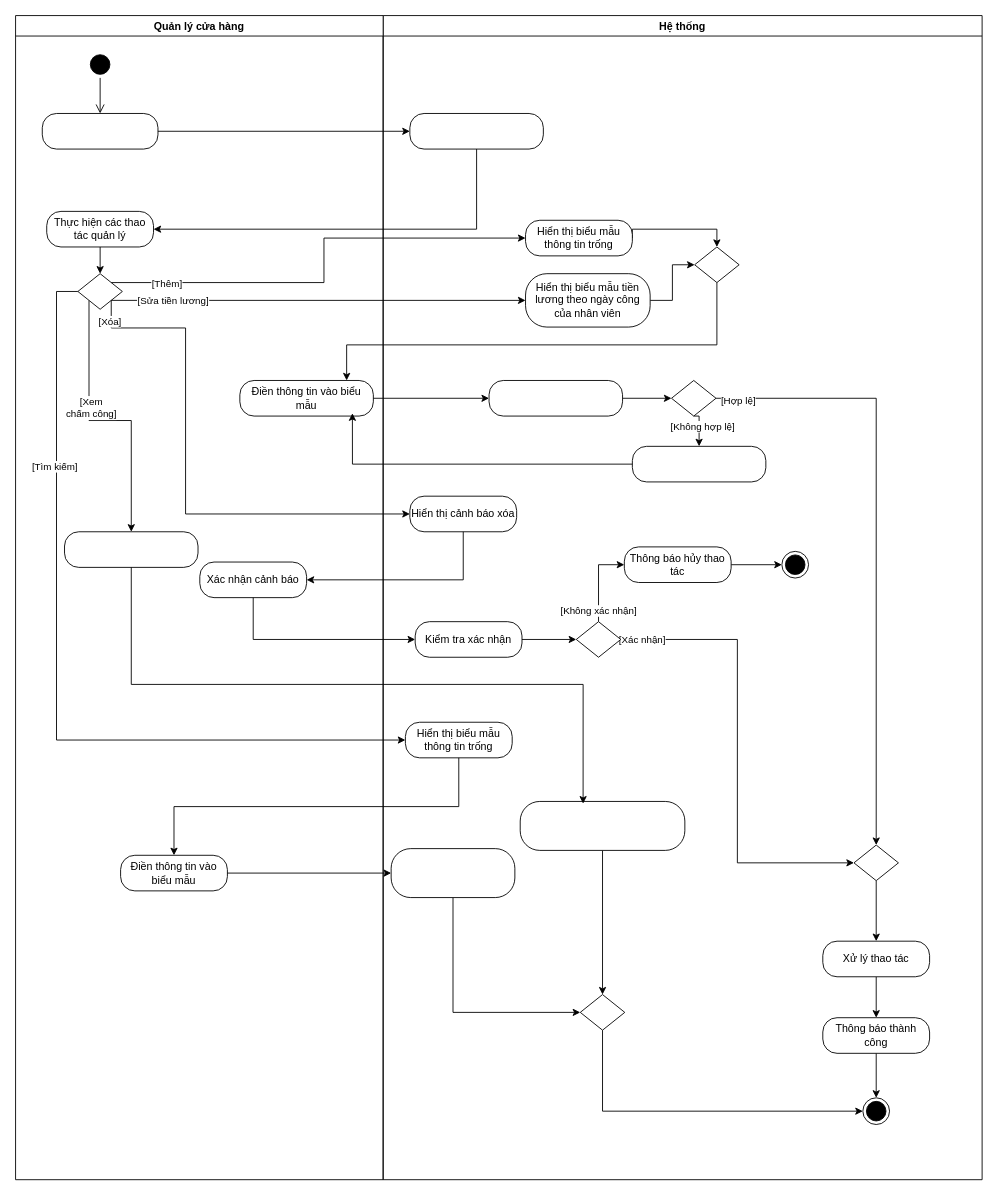
This 998x1195 diagram has some shape labels left out. Each missing label, with the centre of its shape:
"Chọn chức năng Quản lý nhân viên" goes at [99,131].
"Hiển thị biểu mẫu báo cáo chấm công trong tháng này của nhân viên" goes at [602,825].
"Hiển thị danh sách nhân viên" goes at [476,131].
"Hiển thị danh sách nhân viên dựa trên thông tin tìm kiếm" goes at [452,873].
"Kiểm tra tính hợp lệ của thông tin" goes at [555,398].
"Nhấn vào chức năng Xem chấm công" goes at [131,549].
"Thông báo thông tin không hợp lệ" goes at [698,463].
